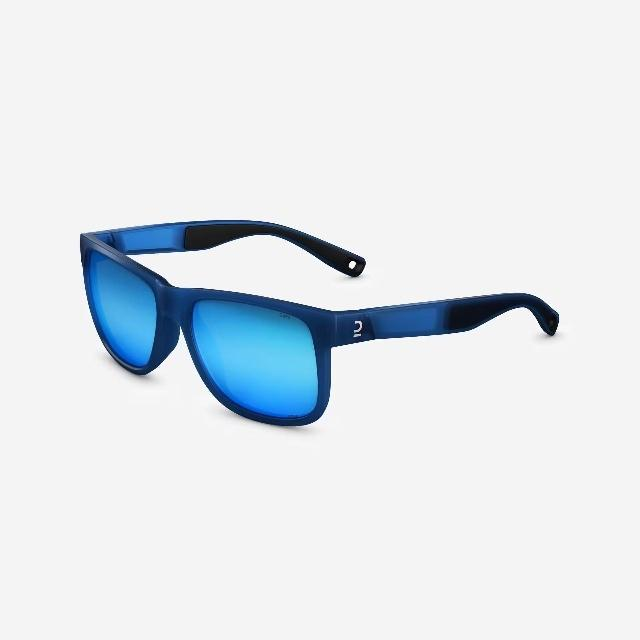Sunglasses: (70, 220, 374, 432)
